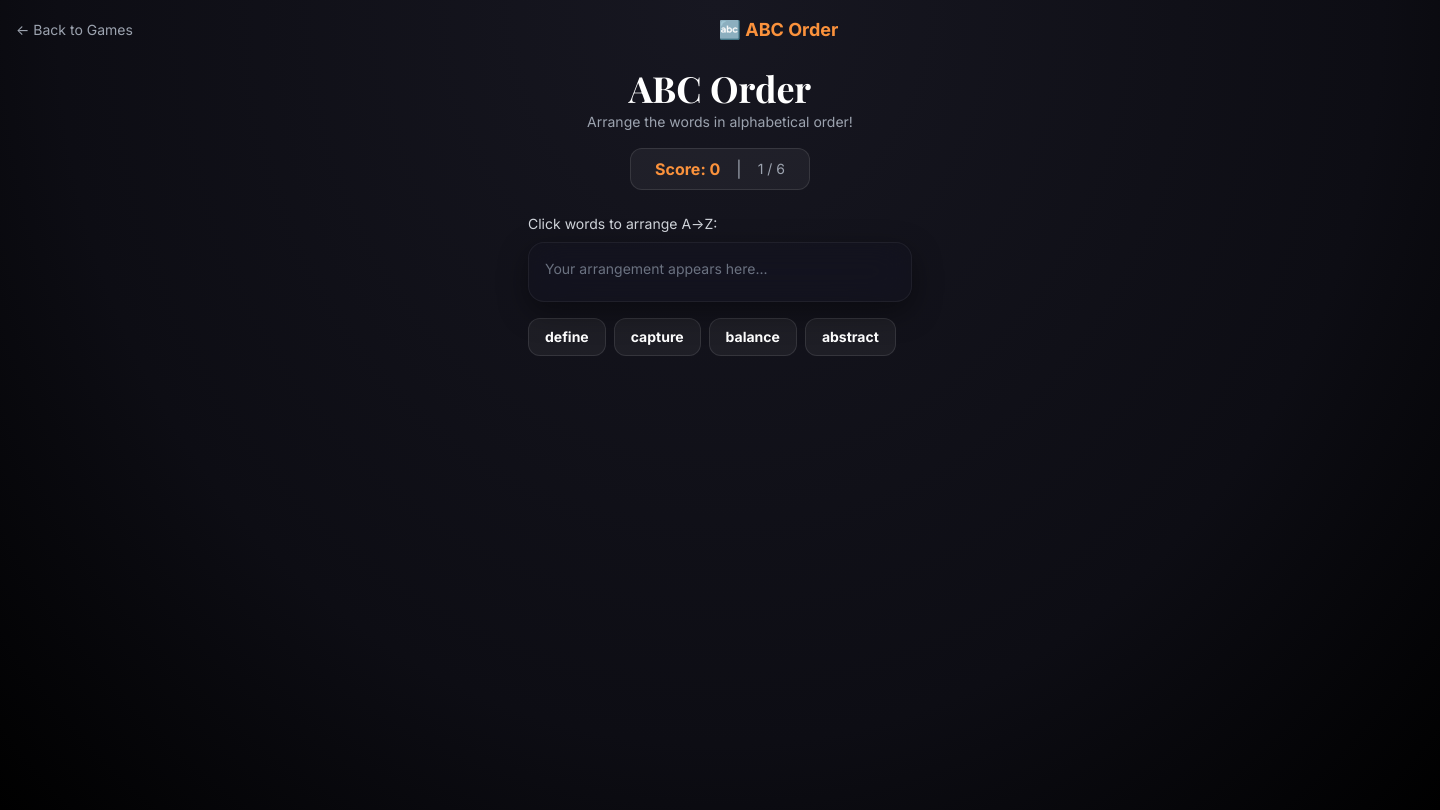
Test case: ABCOrder game logic › moves word to arranged area when clicked
The width and height of the screenshot is (1440, 810).
Click the button "define". click: (567, 337)
box: [528,318,606,356]
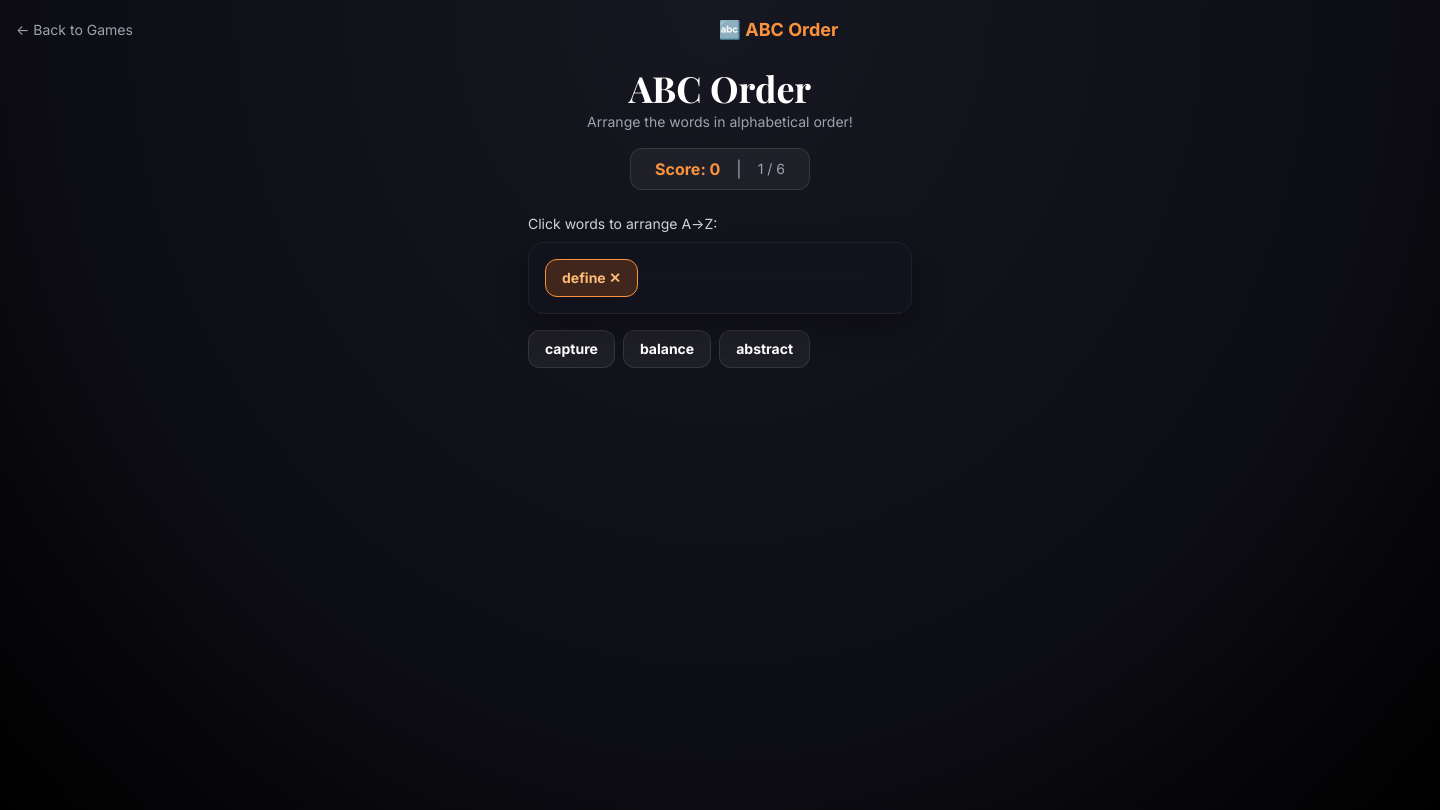
Check: the button "define ✕" is shown, box [545,259,638,297]
